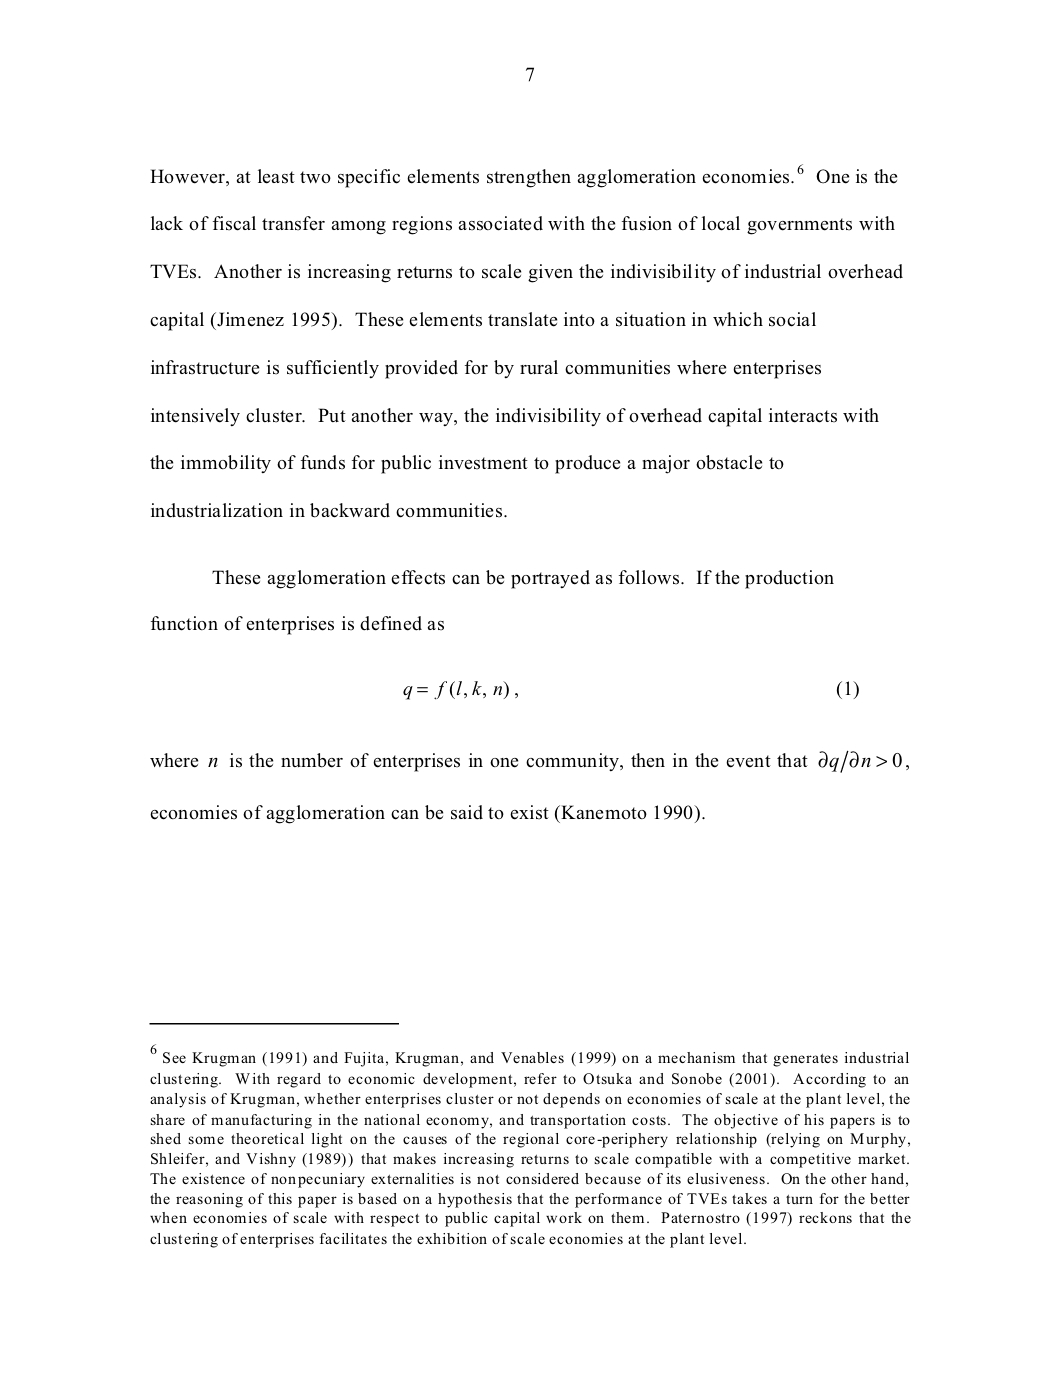figure: (149, 1022, 398, 1025)
formula: (403, 680, 858, 700)
